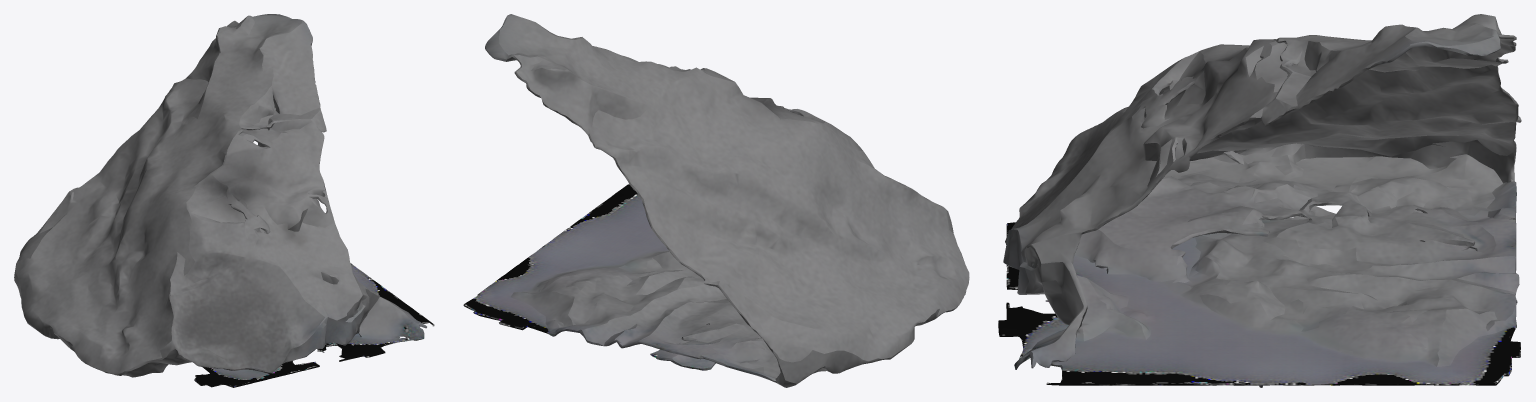
The picture shows the model from 3 angles, left to right: view 1: azimuth 30°, elevation 25°; view 2: azimuth 150°, elevation 25°; view 3: azimuth 270°, elevation 25°; orthographic projection. The views are drawn at different scales.
Visible parts, largest first — view 1: world; view 2: world; view 3: world.
Boxes of the visible parts, left/top/right/bottom form: world: left=14, top=14, right=434, bottom=387; world: left=463, top=14, right=969, bottom=387; world: left=998, top=14, right=1521, bottom=387.
Bounding box in the file's own units: 0.32 × 0.2224 × 0.3125.
Materials: 1 (1 with a texture image).
